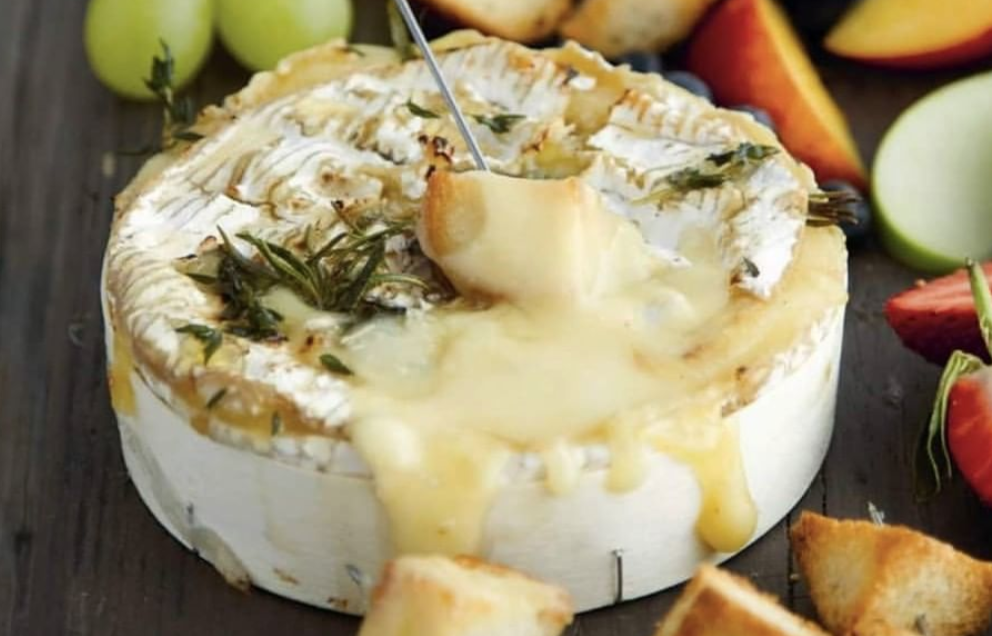camembert: (98, 29, 850, 530)
